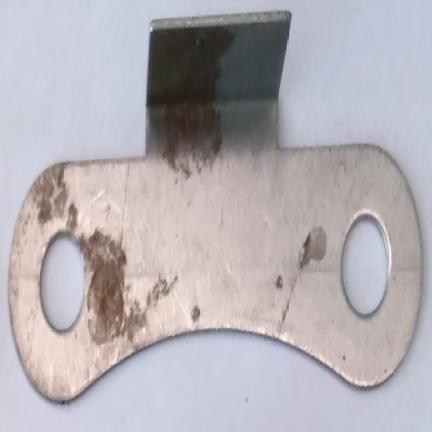karat: (161, 22, 232, 174)
